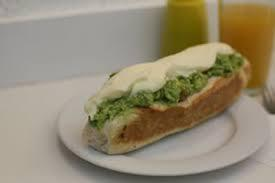Completos: (67, 40, 256, 161)
